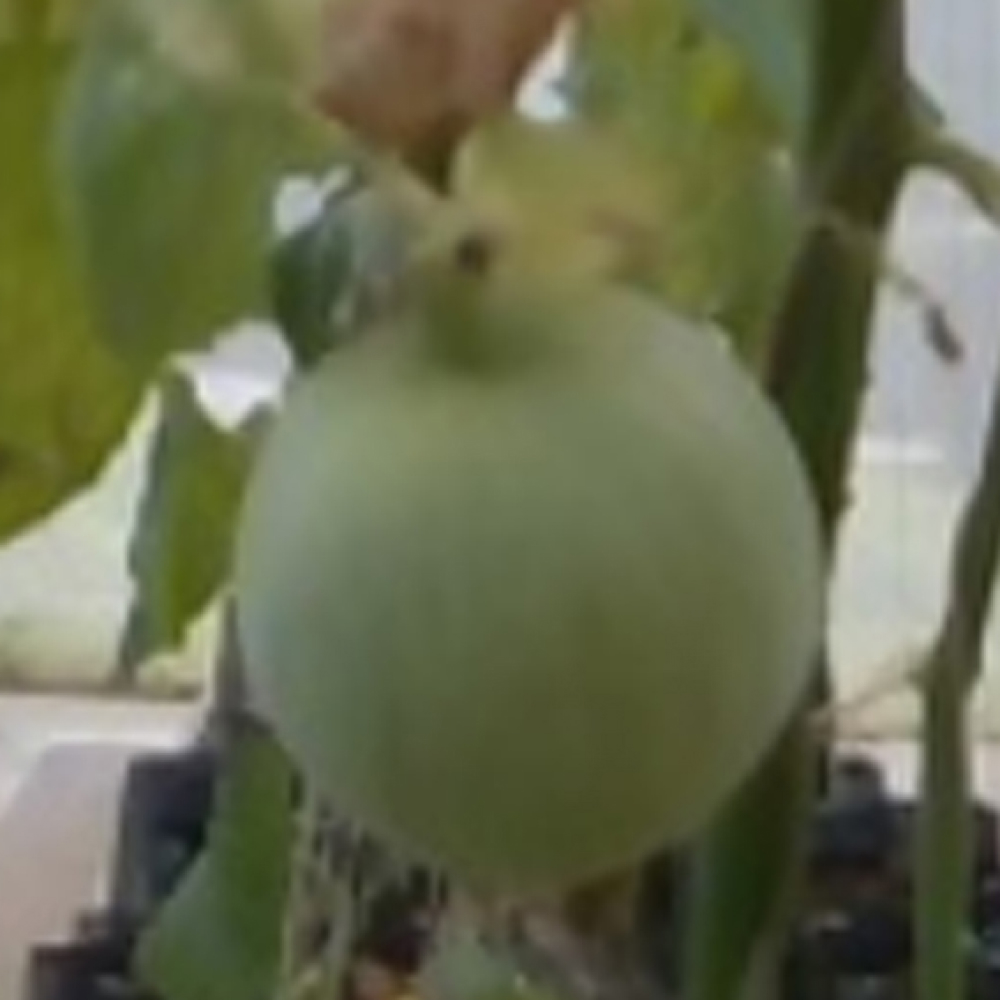melon: (229, 262, 828, 897)
